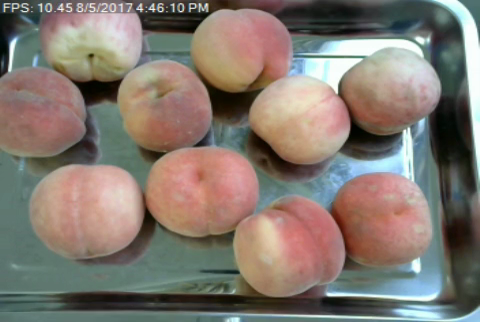Peach: (232, 196, 345, 297), (28, 163, 143, 259), (147, 146, 258, 236), (332, 172, 431, 267), (115, 56, 212, 152), (248, 74, 351, 163), (339, 48, 442, 135), (189, 8, 295, 92), (40, 0, 146, 79), (1, 64, 89, 158)
